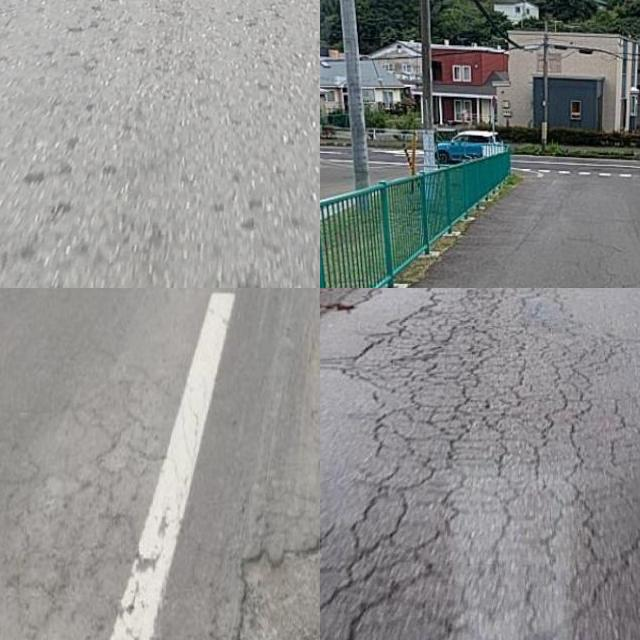Lubang: (230, 532, 320, 640)
Retak Buaya: (320, 288, 640, 640)
